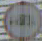Heavy Vehicles: (2, 3, 41, 37)
